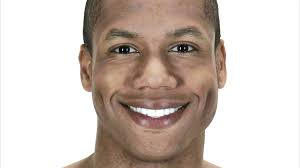shoot: (117, 98, 198, 130)
